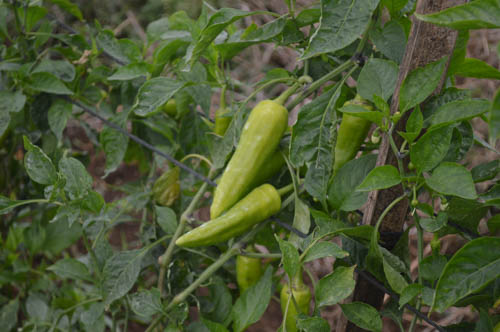ChiliPepper: (209, 100, 287, 220), (164, 186, 281, 250), (331, 104, 374, 173), (231, 250, 263, 293), (279, 288, 311, 327)
